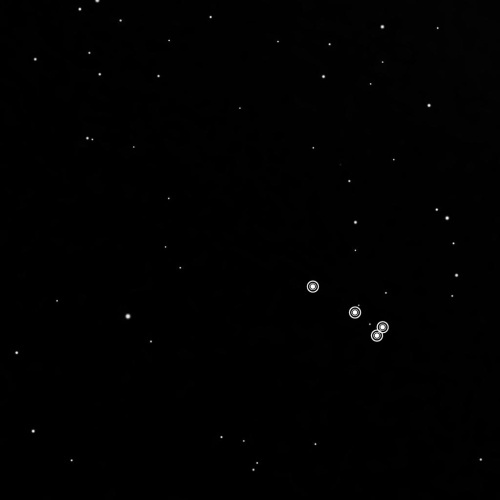sagitta: (299, 275, 395, 349)
